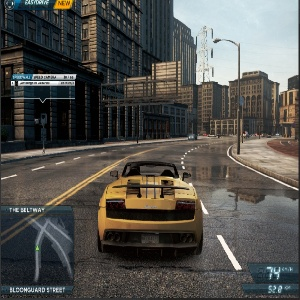lamp post: (212, 35, 245, 156)
road sign: (39, 111, 52, 155)
vehicle: (208, 66, 278, 136), (186, 131, 197, 141)
